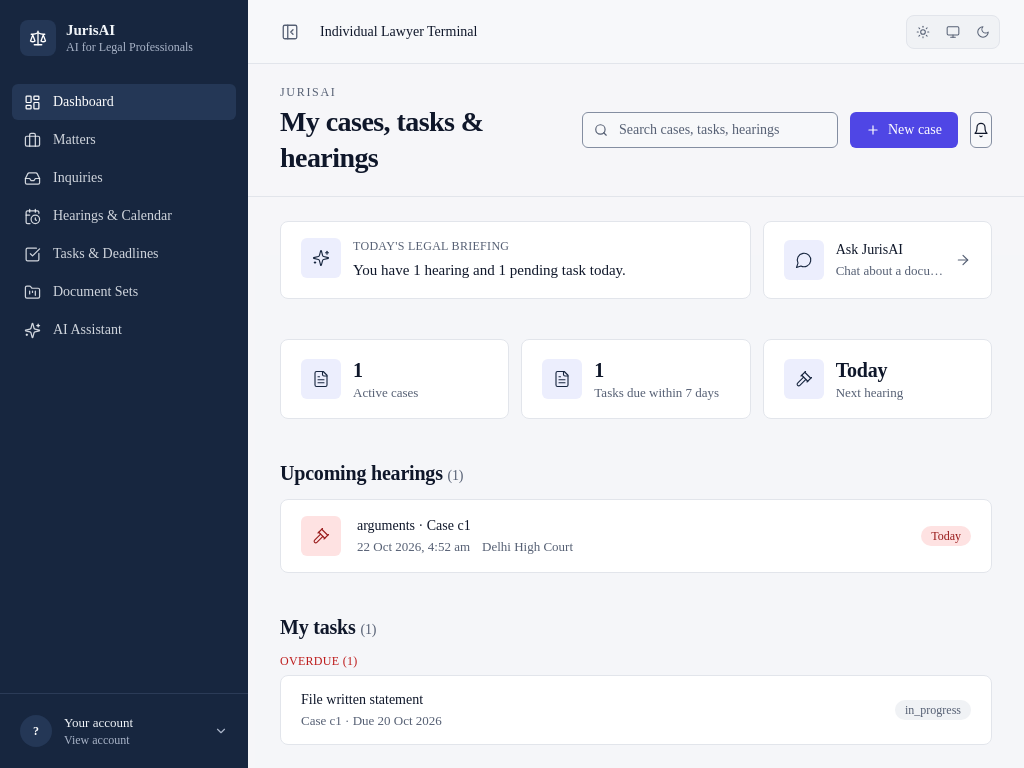
lawyer dashboard › opens New case as a dialog, validates an empty title, and closes on Cancel
Click the button "New case": click(904, 130) 850,112 -> 958,148
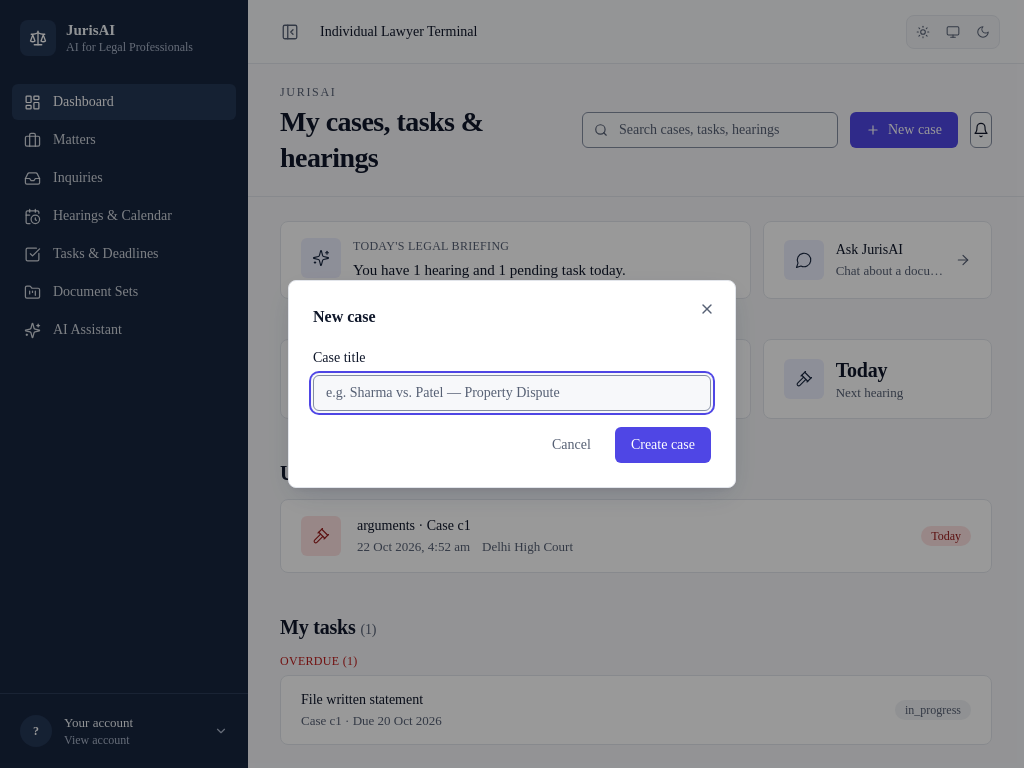
Expected: the dialog is shown, 288,280 -> 736,488
Expected: the field labelled "Case title" is shown, 313,375 -> 711,411
Click the button "Create case": click(663, 445) 615,427 -> 711,463
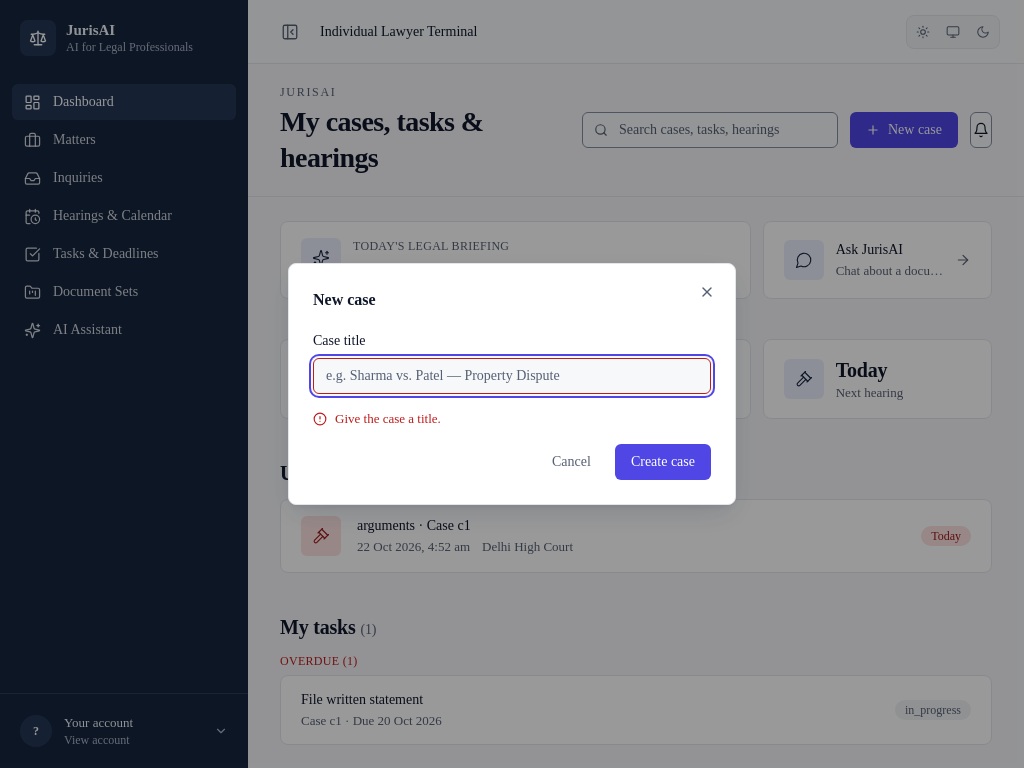
Expected: the message reads "Give the case a title.", 335,411 -> 441,426
Click the button "Cancel": click(571, 462) 536,444 -> 607,480
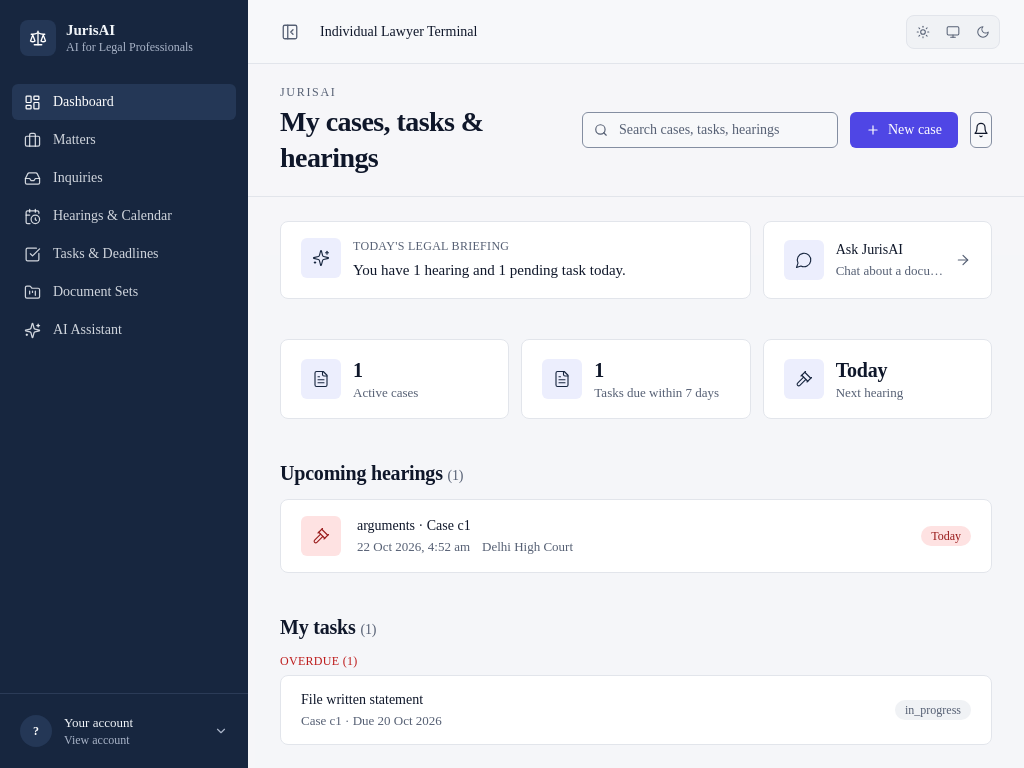
Expected: the dialog is gone
